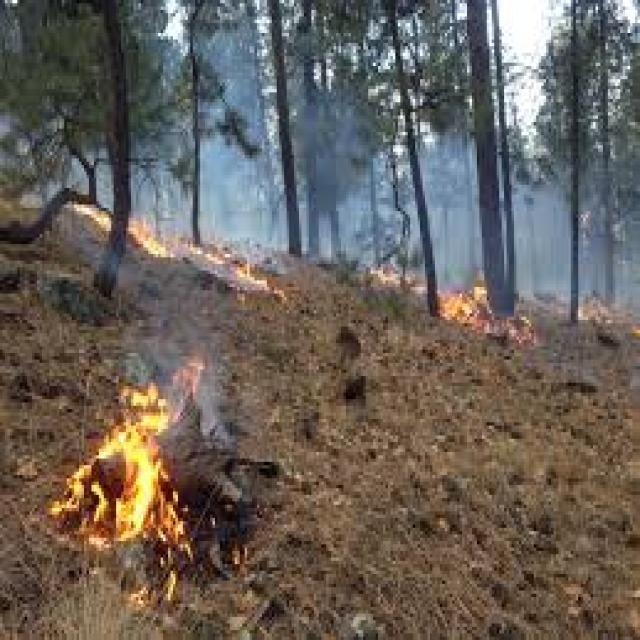Fire: (38, 344, 276, 598), (69, 174, 281, 294), (436, 268, 488, 338)
Smoke: (433, 144, 475, 286), (210, 159, 266, 245), (525, 212, 565, 294)
